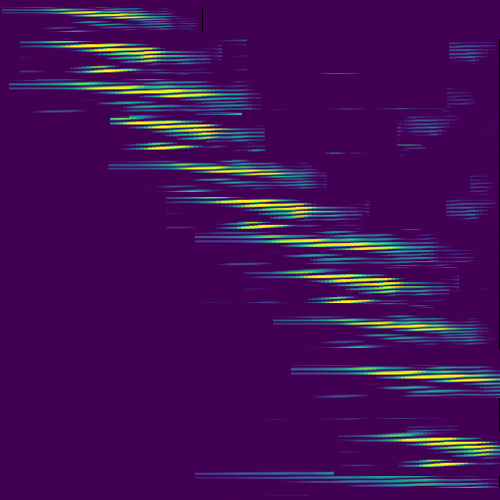semblance: (105, 110, 229, 151), (41, 38, 169, 76), (299, 267, 406, 309), (208, 192, 322, 231), (390, 432, 500, 472), (66, 79, 225, 103), (269, 233, 403, 256), (37, 3, 175, 24), (171, 158, 291, 182), (361, 364, 498, 385), (348, 317, 457, 336)
